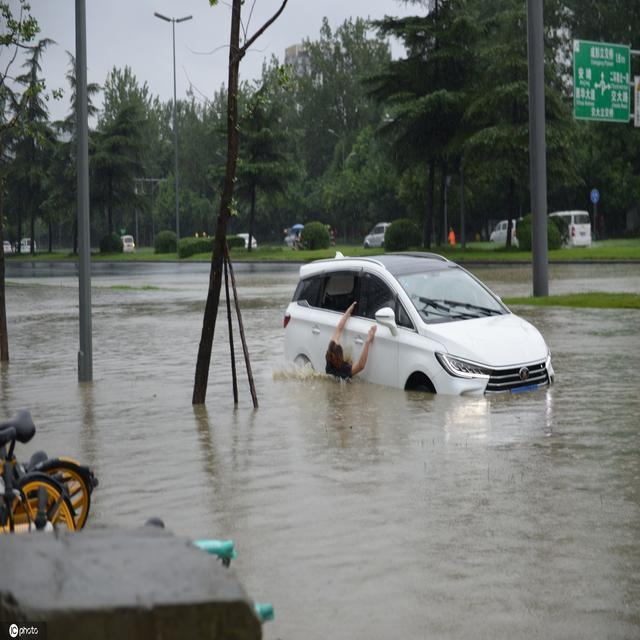Car-RiskLevel3: (273, 230, 564, 410)
Person-RiskLevel3: (310, 296, 387, 402)
